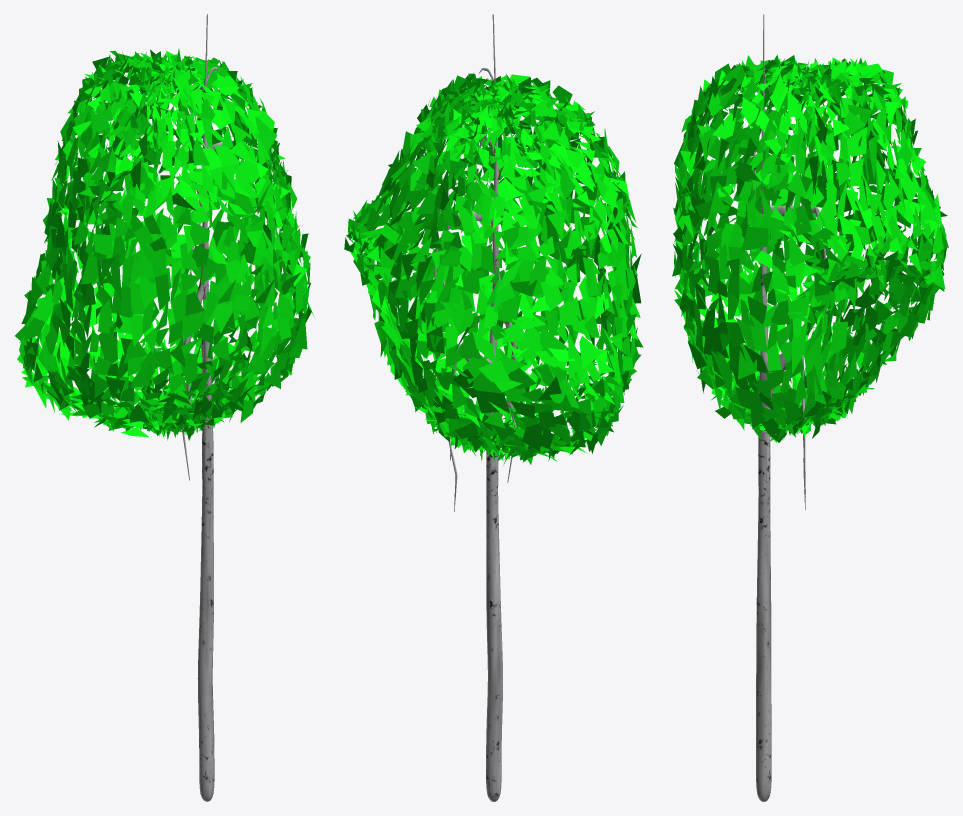
File: Leaves51.002.fbx
The picture shows the model from 3 angles, left to right: view 1: azimuth 30°, elevation 25°; view 2: azimuth 150°, elevation 25°; view 3: azimuth 270°, elevation 25°; orthographic projection.
Parts seen in each view (by area): view 1: Leaves51.002; view 2: Leaves51.002; view 3: Leaves51.002.
Part boxes in pixels (<box>): Leaves51.002: <box>15,14,314,801</box>; Leaves51.002: <box>344,14,643,801</box>; Leaves51.002: <box>672,14,948,801</box>.
Bounding box in the file's own units: 903 × 2574 × 820.
2 materials, 1 textured.
